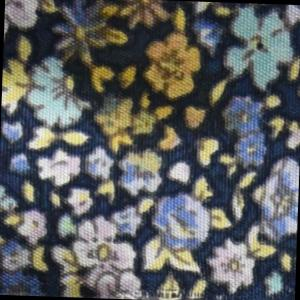Damage: (120, 286, 224, 300)
Oil Stain: (58, 1, 230, 144)
